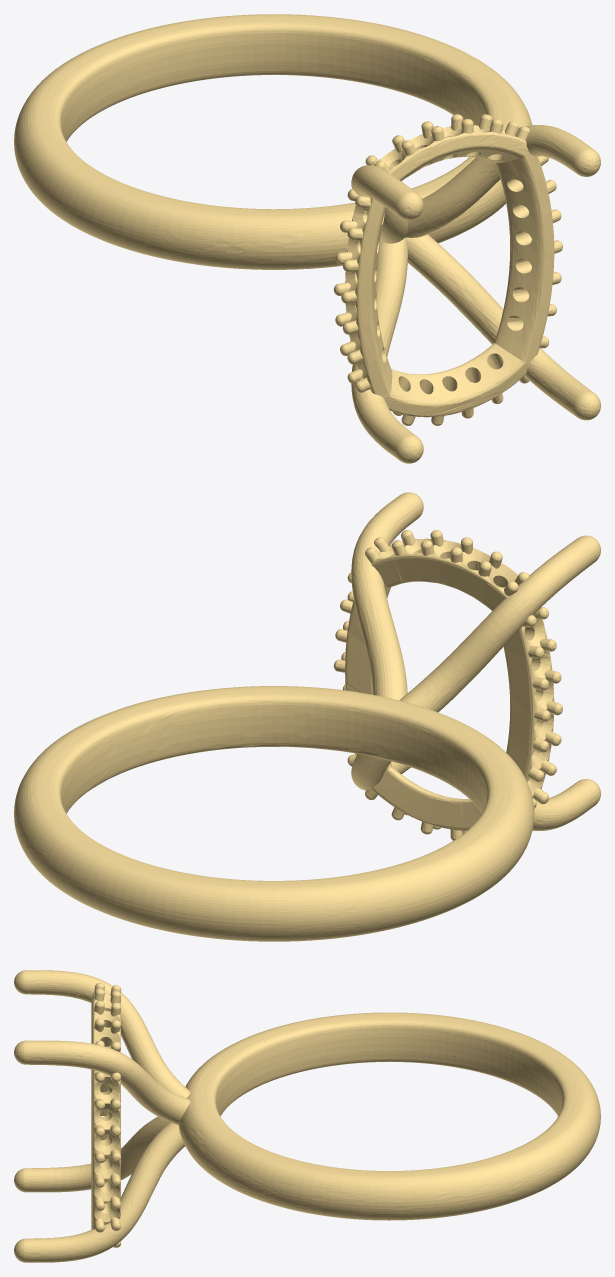
File: hidden-halo-ring.glb
The picture shows the model from 3 angles, top to bottom: view 1: azimuth 30°, elevation 25°; view 2: azimuth 150°, elevation 25°; view 3: azimuth 270°, elevation 25°; orthographic projection. The views are drawn at different scales.
Visible parts, largest first — view 1: Metal Yellow Gold; view 2: Metal Yellow Gold; view 3: Metal Yellow Gold.
Boxes of the visible parts, x1,y1,x2,y2 form: Metal Yellow Gold: (14,14,600,463); Metal Yellow Gold: (14,492,600,941); Metal Yellow Gold: (14,970,600,1262).
Bounding box in the file's own units: 19.28 × 12.2 × 26.74.
